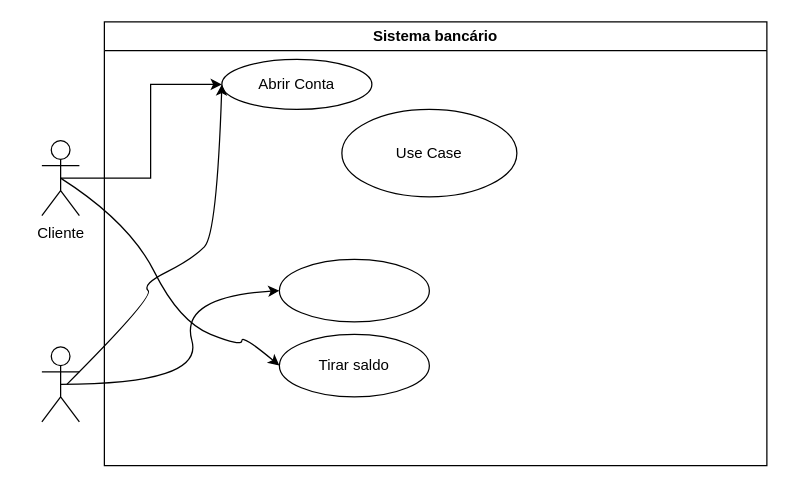
Some shapes in this 789 by 488 pixel diagram are drawn without their labels. The shapes that lost their labels are listed below. From the top down, each one's centre as x and y in pixels, then its label:
At point 353,290: "Tirar extrato".
At point 60,384: "Funcionário".
